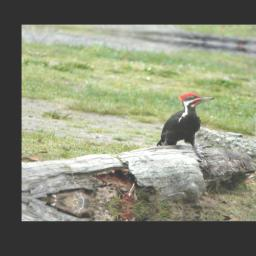Woodpecker: (155, 86, 216, 155)
